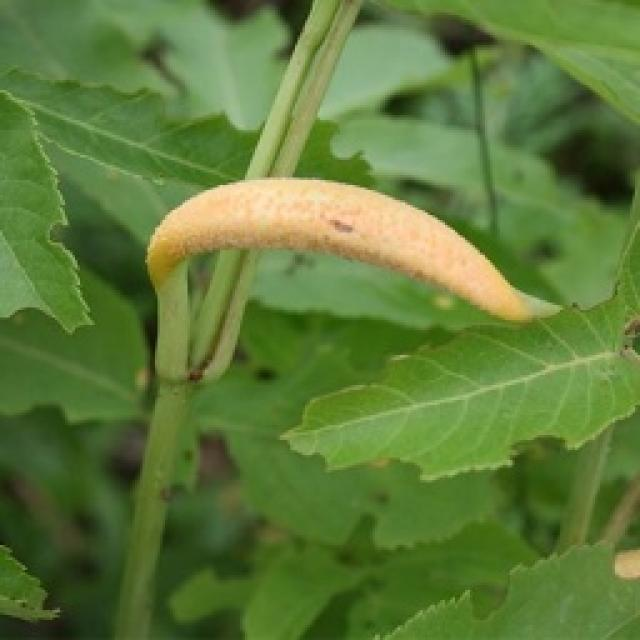Elderberry_rust: (120, 168, 574, 322)
